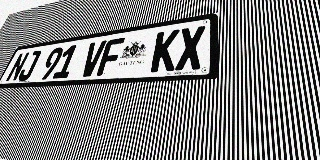1: (52, 44, 80, 79)
9: (38, 46, 65, 80)
F: (96, 37, 125, 76)
J: (16, 50, 42, 81)
K: (150, 29, 180, 72)
N: (5, 52, 30, 82)
V: (78, 40, 107, 77)
X: (175, 25, 205, 71)
